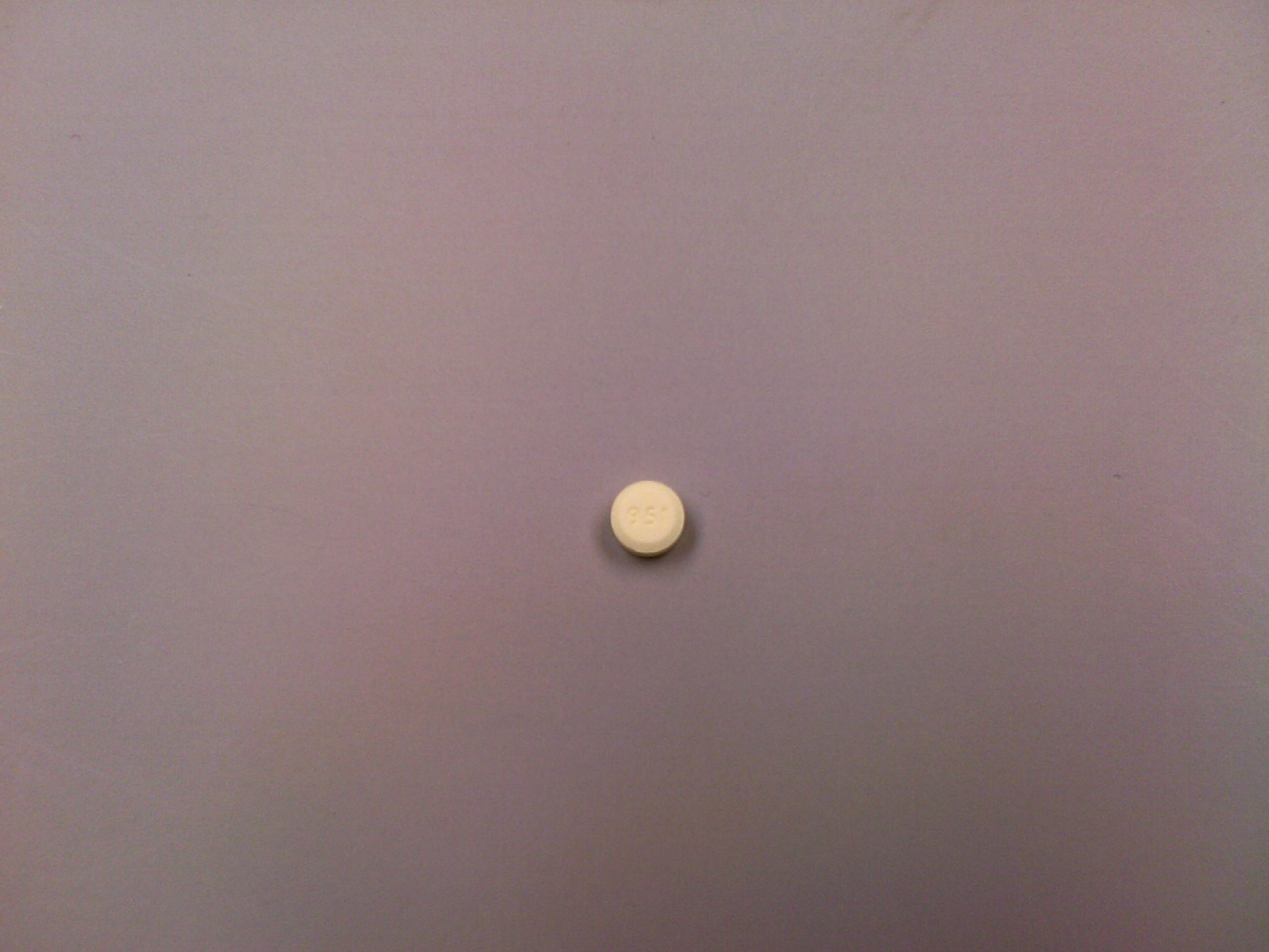Pill: (604, 475, 691, 566)
